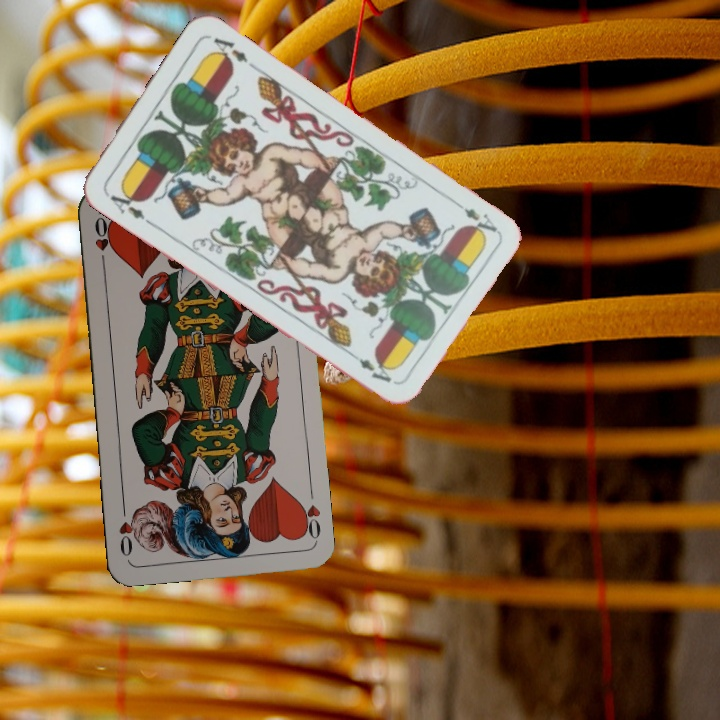EA: (447, 195, 500, 239), (101, 184, 154, 227)
HO: (90, 213, 114, 271), (295, 497, 323, 544)
